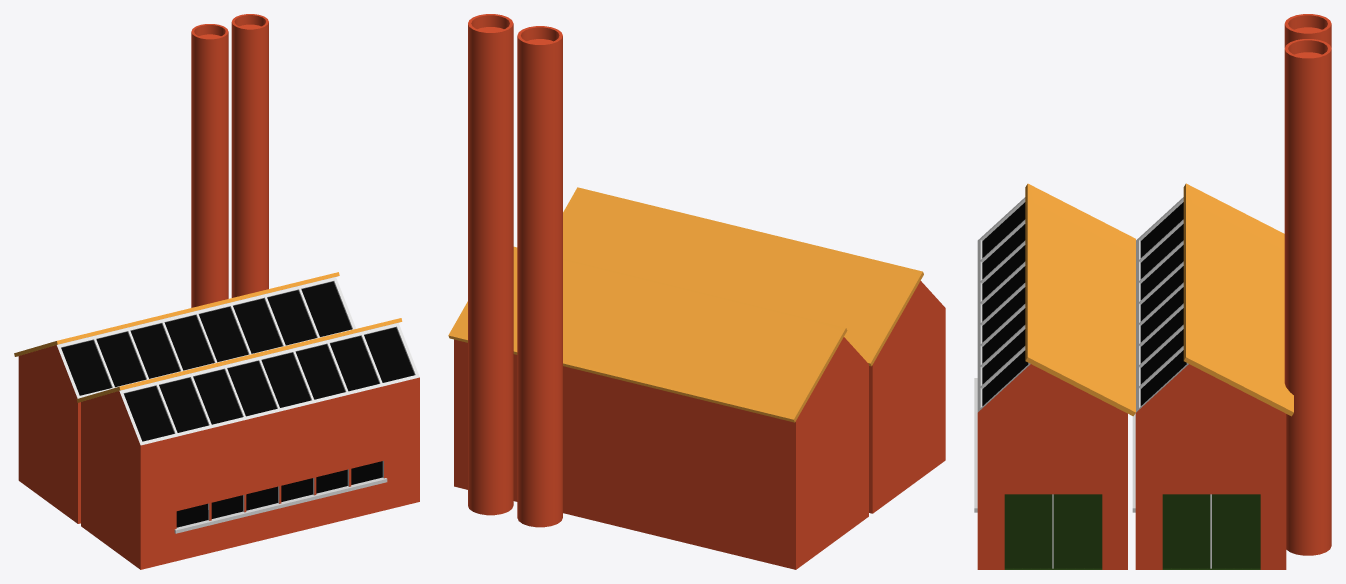
File: P_Batiment_usine_Double.fbx
3 renders of one model, left to right at view 1: azimuth 30°, elevation 25°; view 2: azimuth 150°, elevation 25°; view 3: azimuth 270°, elevation 25°, orthographic. The views are drawn at different scales.
Visible parts, largest first — view 1: P_Batiment_usine_Double; view 2: P_Batiment_usine_Double; view 3: P_Batiment_usine_Double.
Boxes of the visible parts, <box> form: P_Batiment_usine_Double: <box>14,14,419,569</box>; P_Batiment_usine_Double: <box>448,14,945,569</box>; P_Batiment_usine_Double: <box>974,14,1331,569</box>.
Bounding box in the file's own units: 3194 × 4261 × 2774.
